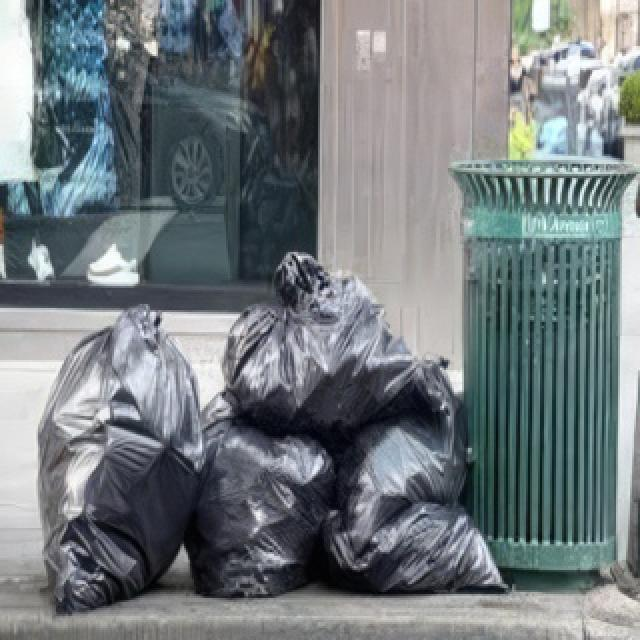high trash: (39, 252, 505, 612)
